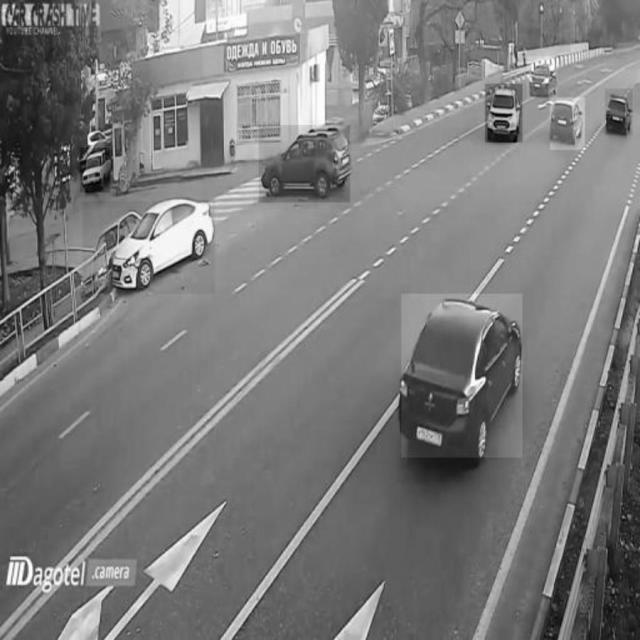accident: (82, 201, 214, 293)
vehicle: (402, 294, 523, 458), (259, 125, 350, 202), (485, 84, 522, 142), (550, 98, 586, 150), (81, 148, 111, 193), (604, 89, 632, 135), (527, 57, 557, 99)
